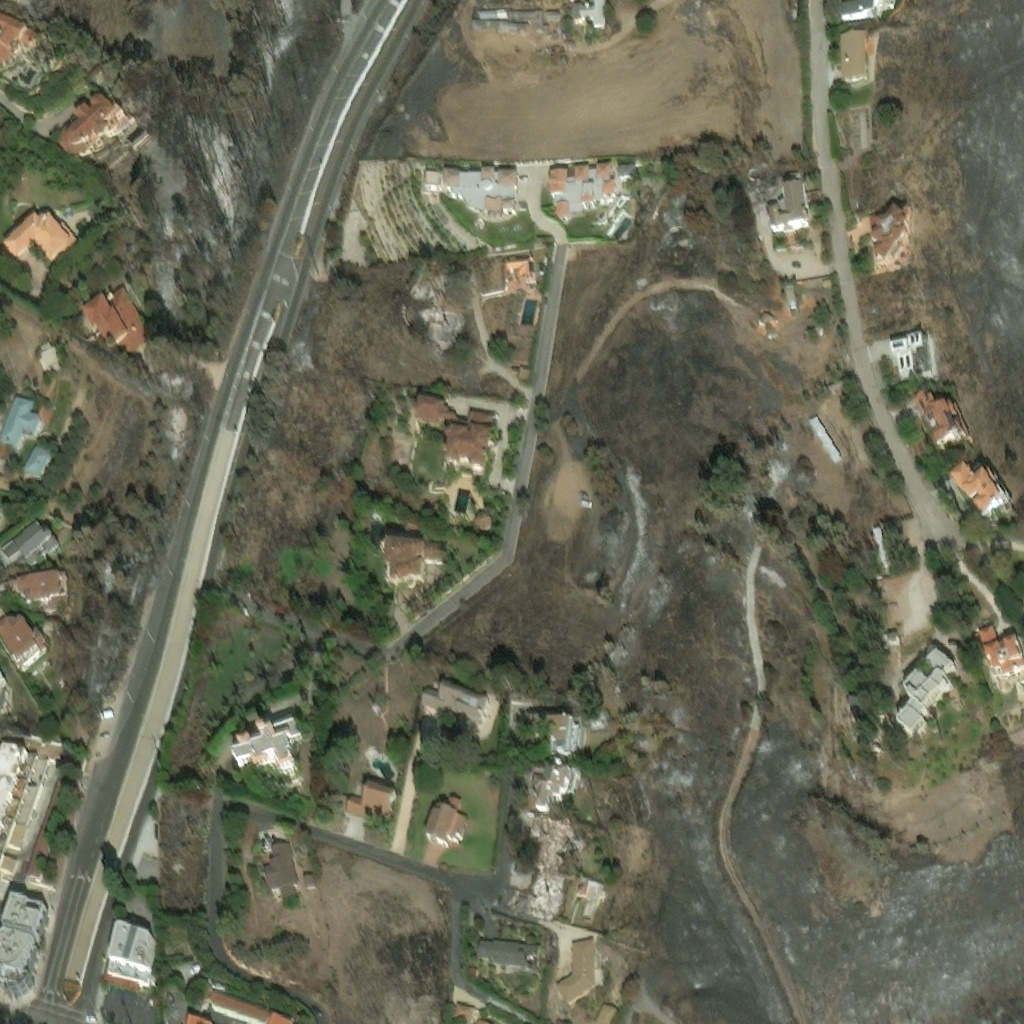0 no-damage: (0, 745, 60, 873), (891, 392, 974, 462), (80, 286, 150, 360), (0, 897, 46, 987), (944, 462, 1010, 522), (1, 213, 79, 263), (898, 676, 954, 742), (208, 987, 299, 1023), (107, 928, 156, 989), (0, 394, 53, 448), (423, 684, 488, 728), (869, 211, 914, 270), (441, 424, 489, 478), (386, 539, 446, 581), (1, 522, 58, 566), (415, 395, 490, 428), (557, 942, 595, 1006), (886, 337, 934, 387), (234, 723, 292, 764), (0, 620, 48, 669), (262, 838, 299, 900), (768, 183, 811, 236), (17, 575, 70, 616), (426, 795, 467, 848), (476, 938, 538, 973), (838, 34, 873, 92), (346, 782, 395, 823), (807, 417, 844, 466), (983, 639, 1023, 680), (27, 830, 54, 884), (836, 112, 869, 152), (547, 718, 578, 758), (881, 515, 922, 545), (865, 528, 890, 570), (842, 0, 887, 23), (22, 445, 53, 478), (37, 340, 62, 377), (445, 171, 482, 192), (926, 653, 955, 677), (452, 1007, 491, 1023), (136, 850, 157, 877), (550, 171, 568, 198), (41, 809, 59, 834), (907, 675, 929, 695), (48, 788, 65, 813), (978, 627, 998, 647), (756, 168, 776, 188), (596, 1005, 618, 1023), (378, 434, 392, 462), (574, 168, 591, 187), (618, 167, 636, 184), (474, 513, 491, 530), (499, 171, 516, 188), (597, 168, 613, 186), (755, 312, 775, 326), (484, 199, 503, 213), (527, 716, 545, 730), (583, 188, 595, 209), (424, 174, 442, 188), (556, 206, 570, 223), (880, 631, 898, 644), (480, 167, 496, 181), (517, 366, 531, 381), (846, 698, 866, 708), (604, 185, 618, 199), (302, 871, 315, 886), (642, 200, 656, 213), (55, 780, 67, 792), (0, 673, 5, 700), (503, 203, 516, 213), (482, 182, 494, 192), (822, 281, 834, 290), (859, 624, 869, 634), (637, 212, 647, 221), (1005, 629, 1012, 636)
1 minor-damage: (62, 101, 134, 161), (0, 15, 42, 73), (532, 764, 578, 810), (501, 257, 536, 293), (573, 0, 606, 29), (507, 7, 542, 31), (473, 20, 528, 30), (478, 8, 507, 19), (93, 71, 105, 87), (545, 8, 559, 16), (586, 45, 597, 51), (571, 46, 579, 52)
3 destroyed: (507, 868, 564, 918), (529, 812, 570, 863), (423, 301, 460, 342), (415, 281, 430, 298)
